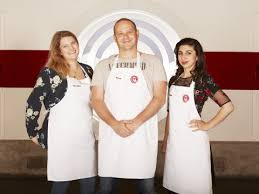Bad: (91, 16, 234, 194), (26, 17, 167, 193)
